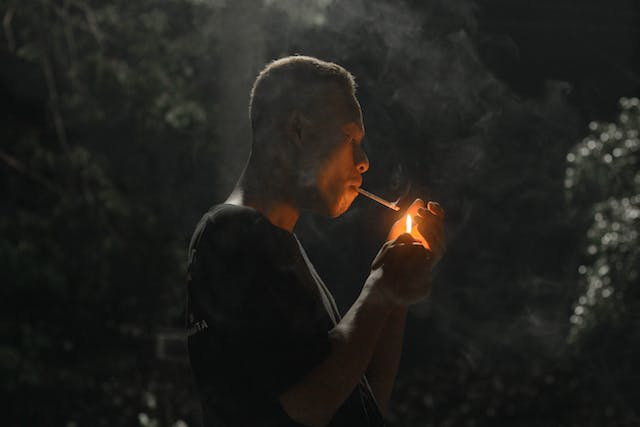Cigarette: (355, 185, 401, 213)
